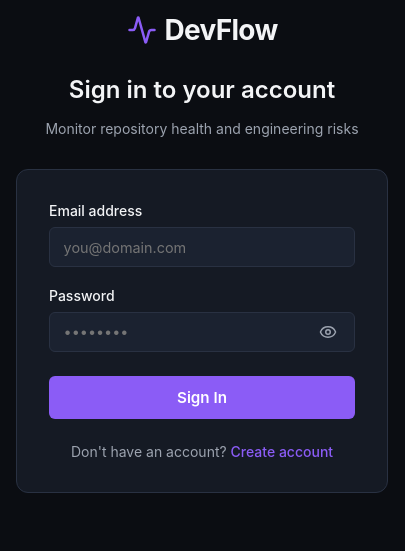
Scenario: Frontend Authentication UI & Validation (SPEC Section 11 & 12) › Login Page › validates invalid email format
The image size is (405, 551).
Step 1. Type "not-an-email" into the field labelled "Email address" → (202, 247), box [49,227,355,267]
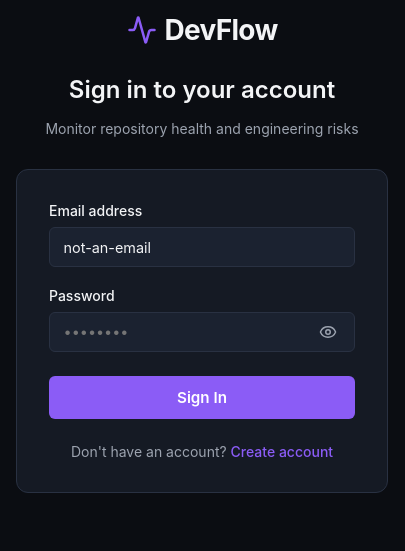
Step 2. Click the button "Sign In" → (202, 397), box [49,376,355,419]
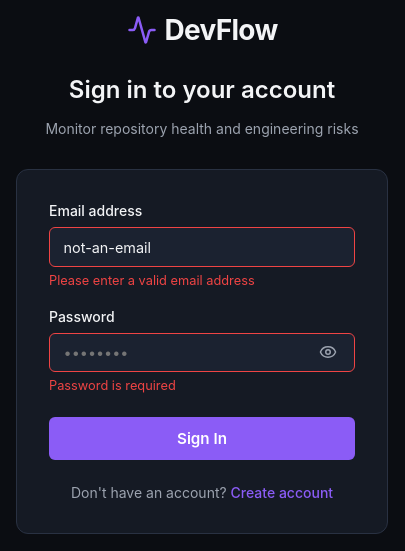
Result: the text "Please enter a valid email address" is shown at [49,272,255,288]
